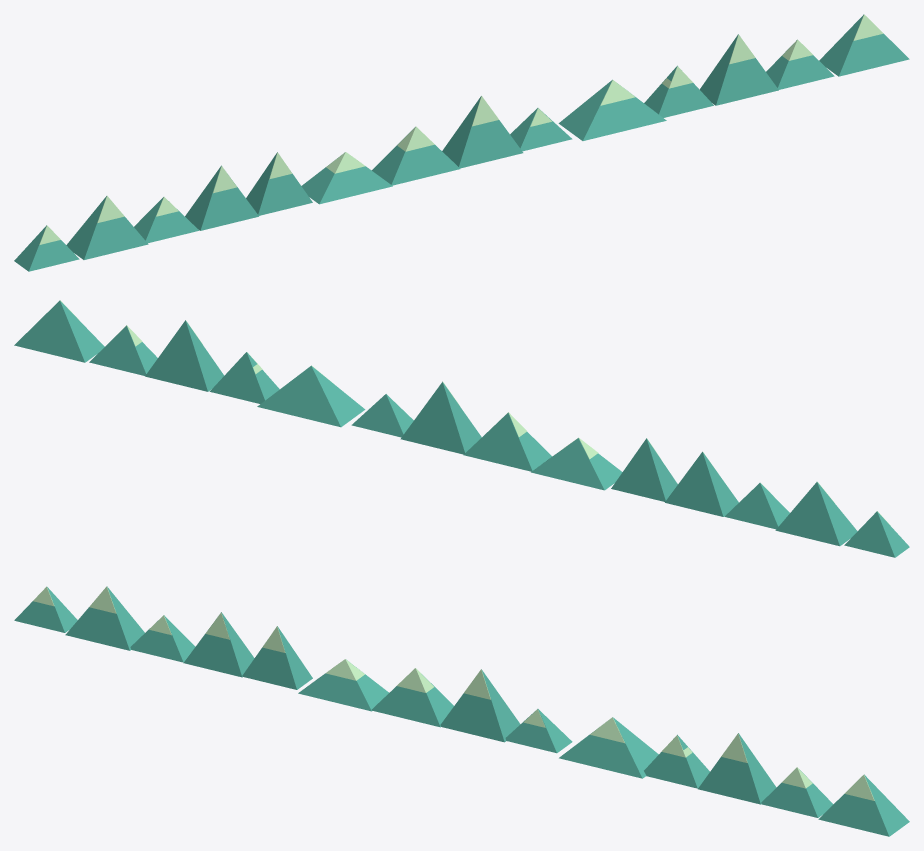
Rendered from ridge.glb.
3 renders of one model, top to bottom at view 1: azimuth 30°, elevation 25°; view 2: azimuth 150°, elevation 25°; view 3: azimuth 330°, elevation 25°, orthographic.
Parts seen in each view (by area): view 1: Ridge; view 2: Ridge; view 3: Ridge.
Part boxes in pixels (x1=…): Ridge: x1=14, y1=14, x2=909, y2=271; Ridge: x1=14, y1=300, x2=909, y2=557; Ridge: x1=14, y1=586, x2=909, y2=836.
Bounding box in the file's own units: 17.26 × 1.11 × 0.8273.
